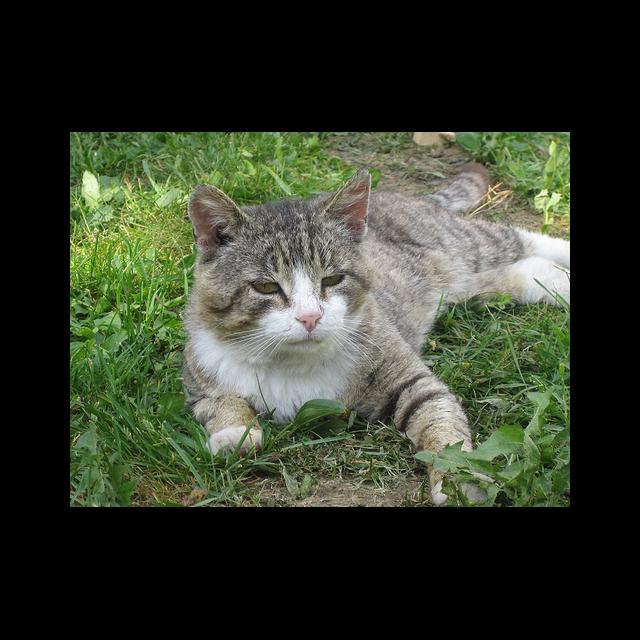animals: (199, 170, 364, 328)
